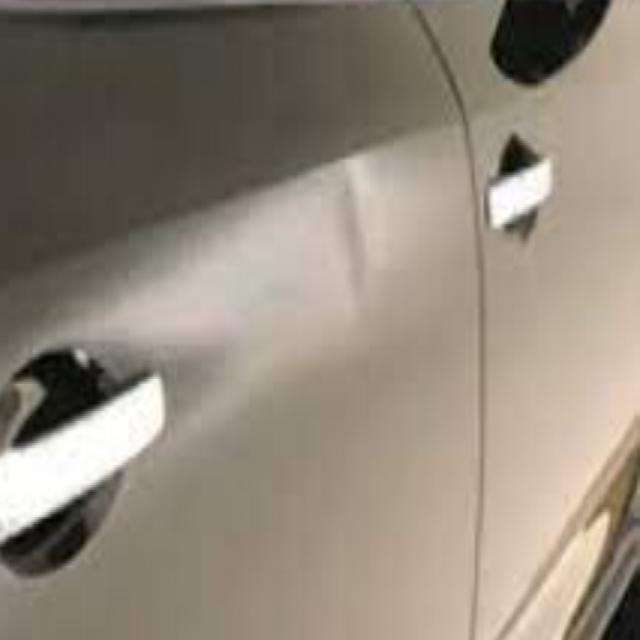dents: (330, 161, 397, 339)
